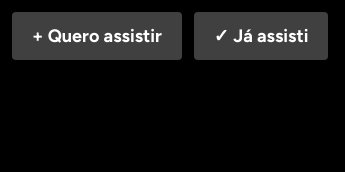
Test: troca rápida termina no último clique
Click the button "+ Quero assistir" at (97, 36), box [12,12,182,60]
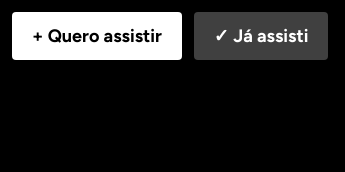
Click the button "✓ Já assisti" at (261, 36), box [194,12,328,60]
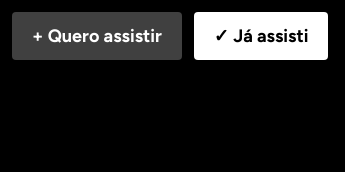
Expected: the button "✓ Já assisti" is pressed, [194,12,328,60]
Expected: the button "+ Quero assistir" is not pressed, [12,12,182,60]
